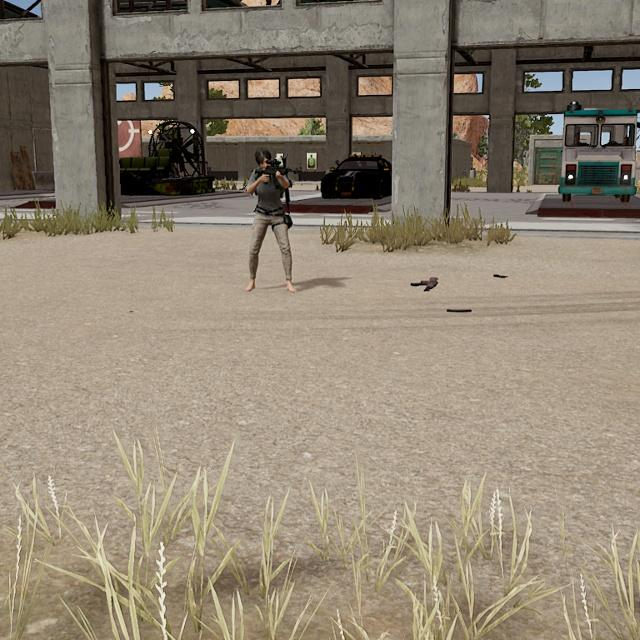head: (243, 147, 300, 294), (253, 146, 273, 170)
